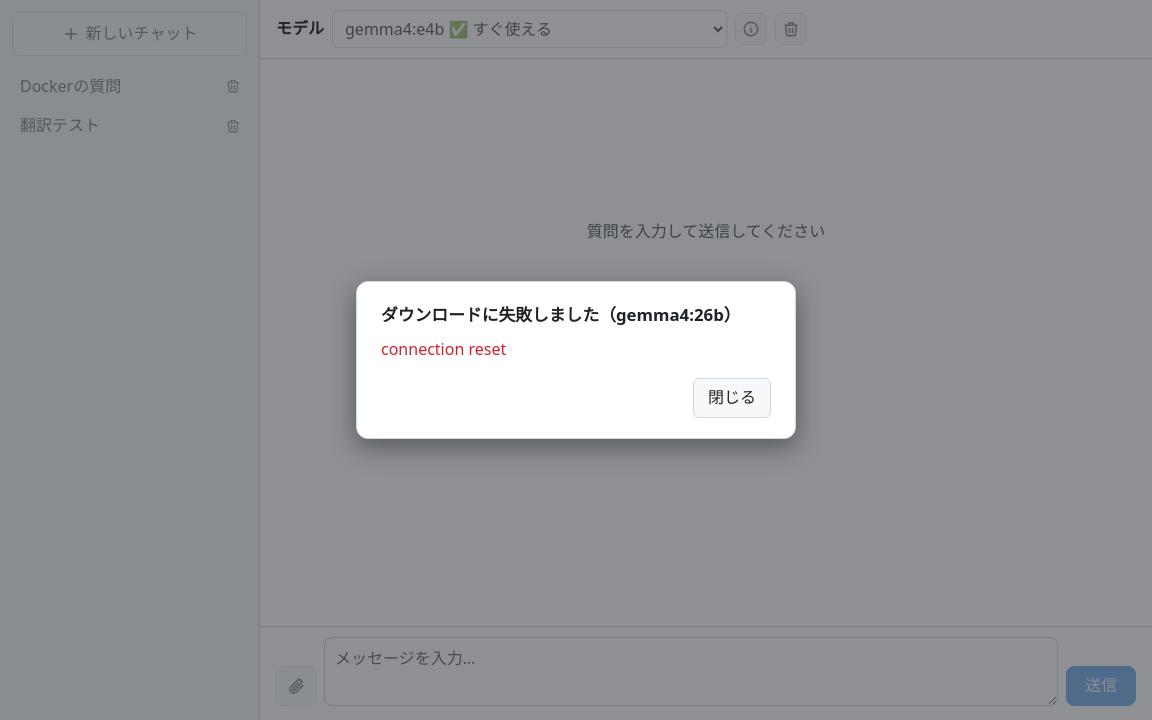
Test case: AppShell › DownloadState が error ならダイアログにエラー文を出し、閉じると locked が解除される
Expected: the message reads "connection reset", [381,338,506,360]
Expected: the dropdown labelled "モデル" is disabled, [332,10,727,48]
Click the button "閉じる". click: (732, 398)
box: [693,378,771,418]
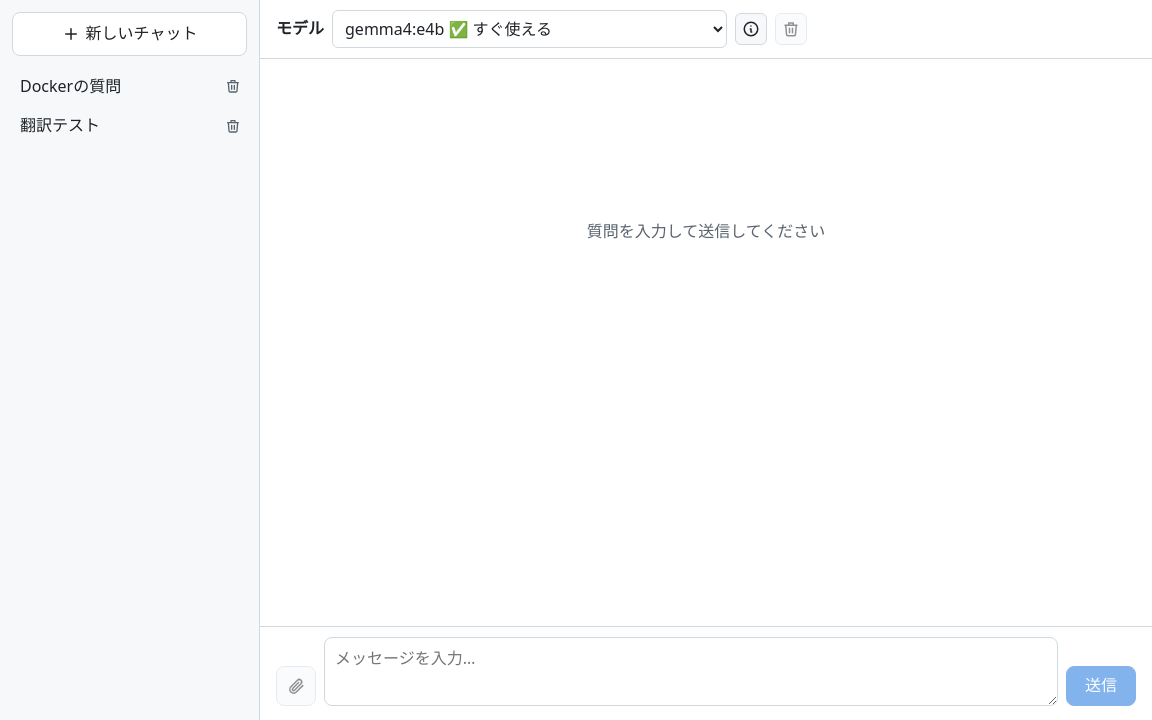
Now the dialog is gone
Now the dropdown labelled "モデル" is enabled, box [332,10,727,48]
Now the button "新しいチャット" is enabled, box [12,12,247,56]
